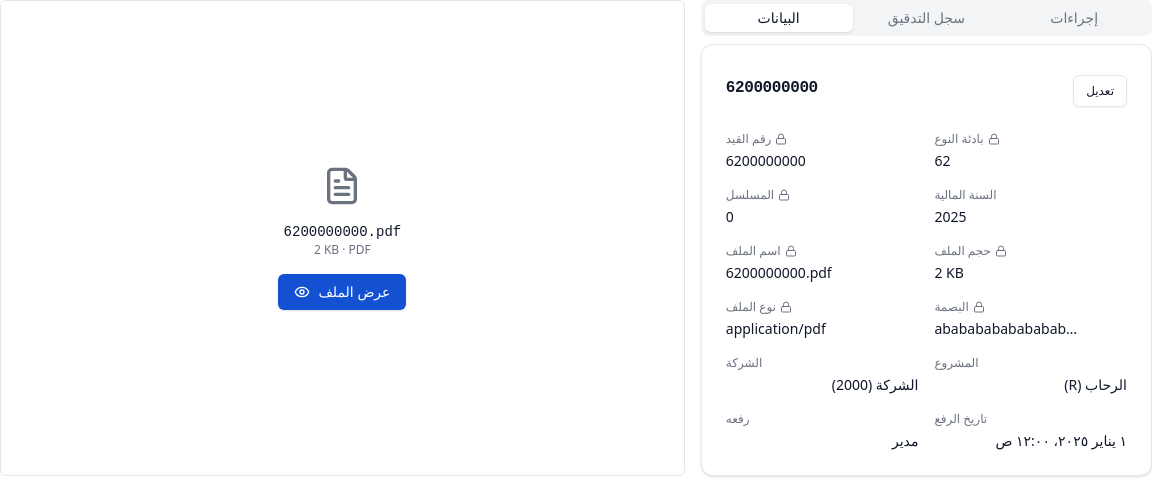
Test case: EntryDetailPage › audit timeline renders events newest-first
The width and height of the screenshot is (1152, 494).
Expected: the 1st text "6200000000" is shown, x1=726 y1=80 x2=818 y2=96
Click the tab "سجل التدقيق".
click(926, 18)  # box x1=852 y1=4 x2=1000 y2=32
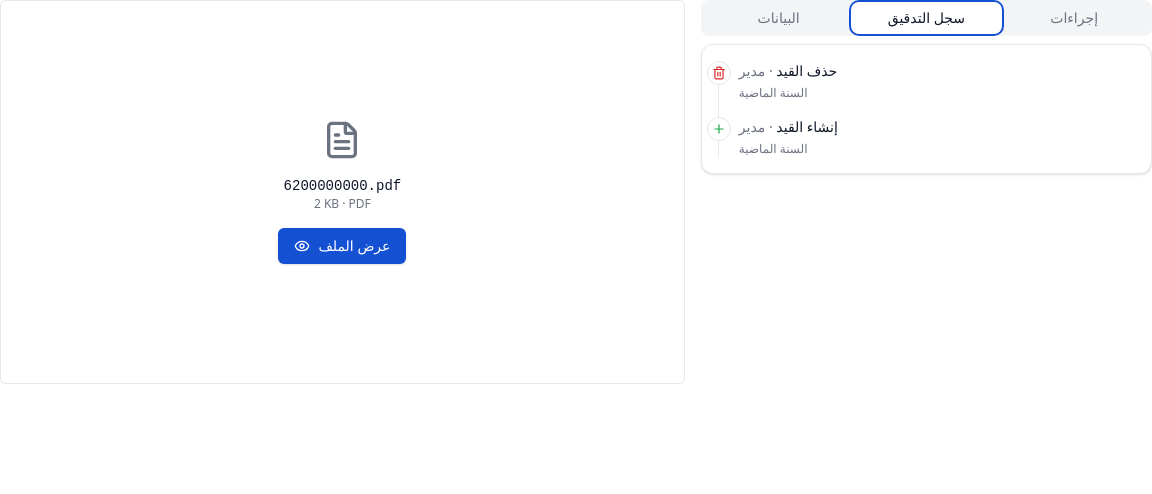
Now the text "حذف القيد · مدير" is shown, box x1=739 y1=61 x2=837 y2=80
